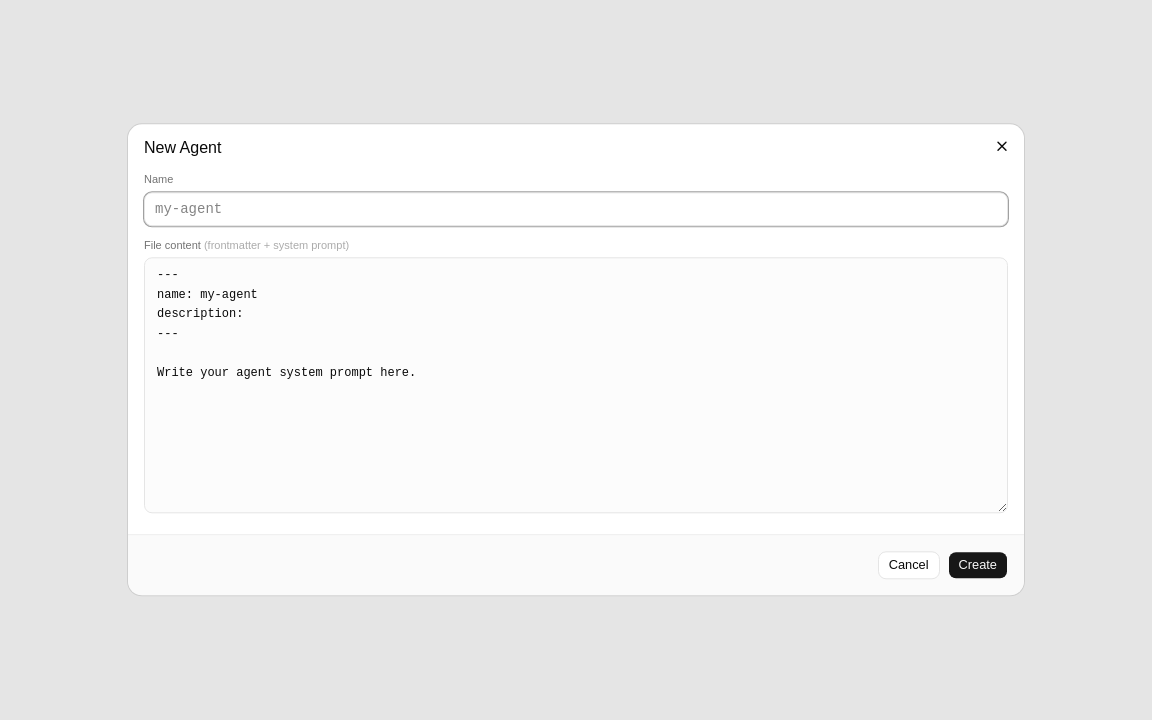
Test: AgentEditorModal — new agent › shows error when createAgent rejects
In the field with placeholder "my-agent": (576, 209) [144,192,1008,226], type "new-agent"
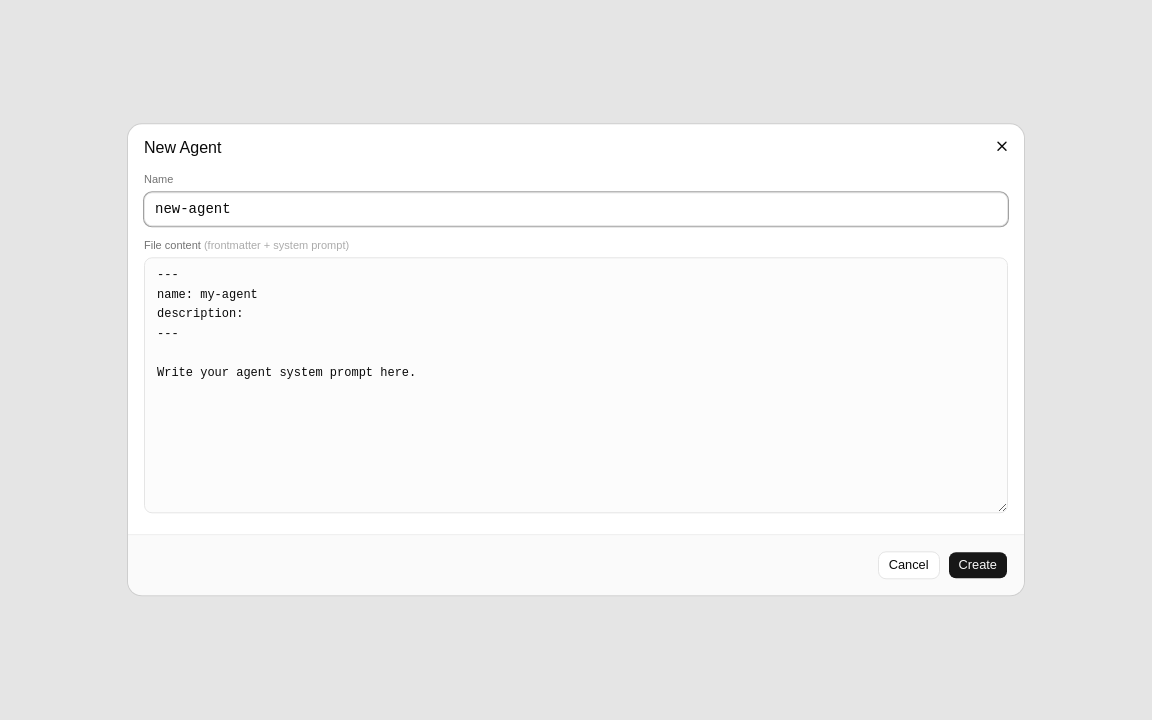
Click the button "Create": (978, 566) [948,552,1008,580]
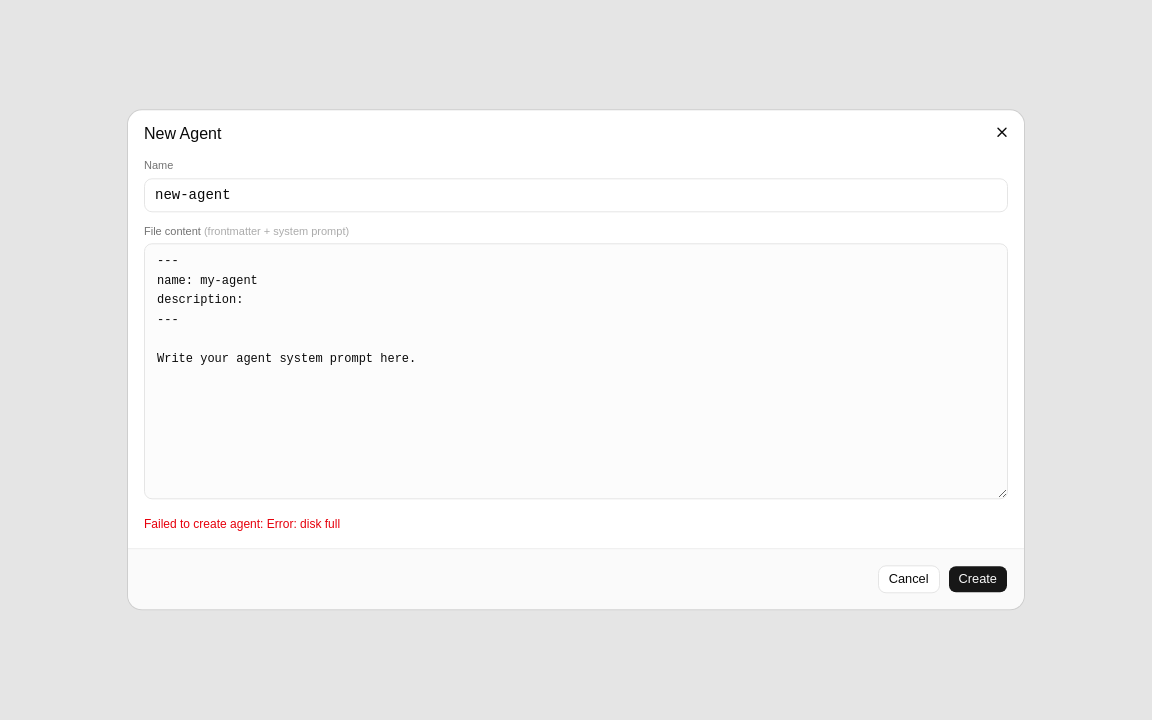
Result: the text "Failed to create agent: Error: disk full" is shown at [144,518,340,532]
